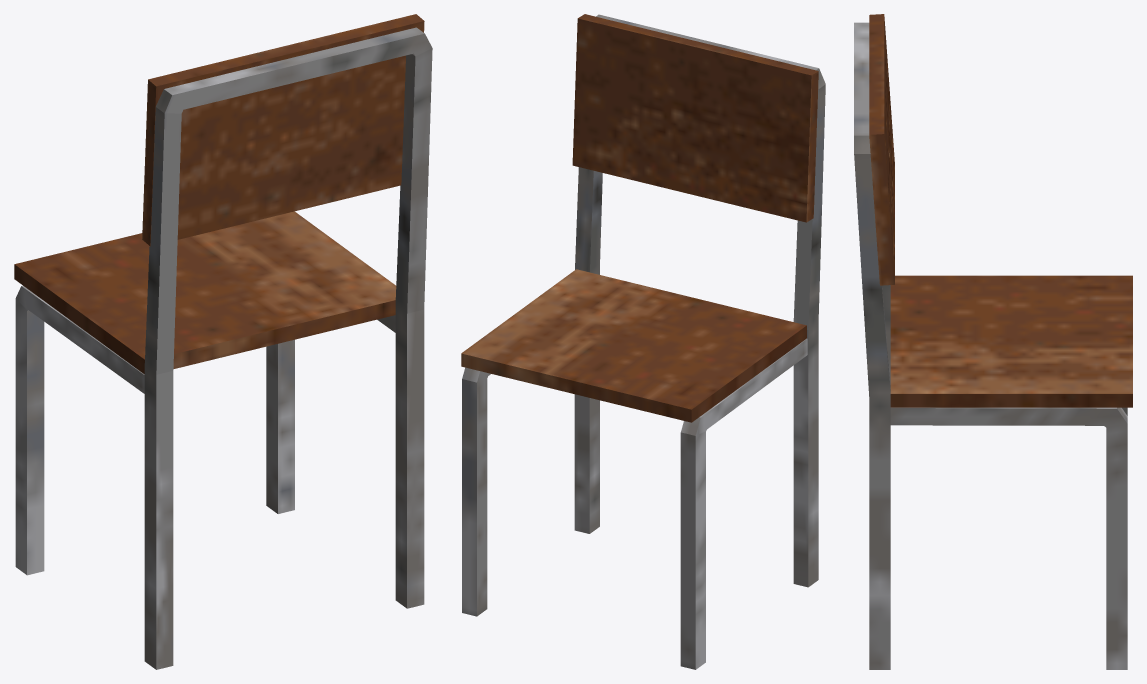
The model's file is Chair.fbx.
3 views of the same model, side by side, from view 1: azimuth 30°, elevation 25°; view 2: azimuth 150°, elevation 25°; view 3: azimuth 270°, elevation 25° (orthographic). The views are drawn at different scales.
Parts seen in each view (by area): view 1: Chair; view 2: Chair; view 3: Chair.
Part boxes in pixels (<box>): Chair: <box>14,14,432,669</box>; Chair: <box>461,14,825,669</box>; Chair: <box>854,14,1132,669</box>.
Bounding box in the file's own units: 37.33 × 77.72 × 36.64.
